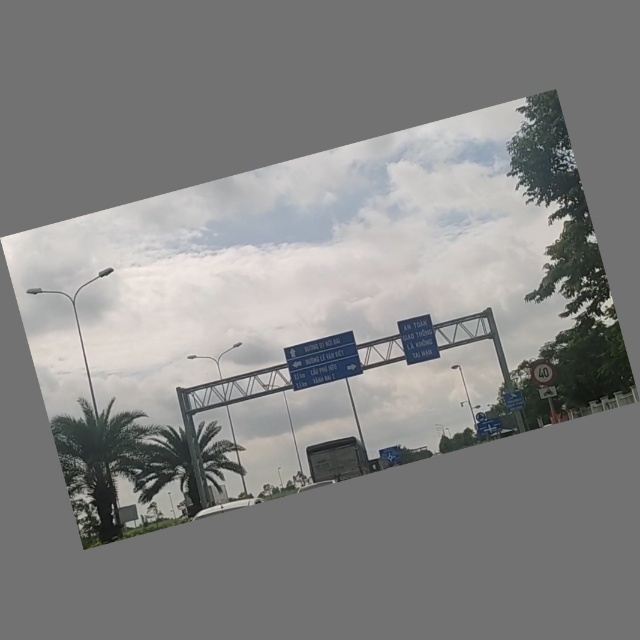P.127*40: (528, 358, 558, 388)
S.505a*Xe may: (535, 383, 559, 403)
